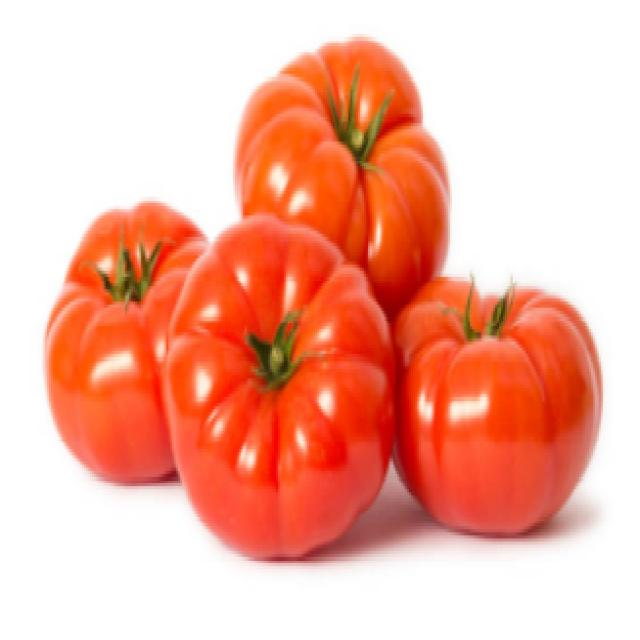Tomato: (169, 243, 400, 552), (229, 27, 453, 304), (398, 254, 594, 533)
